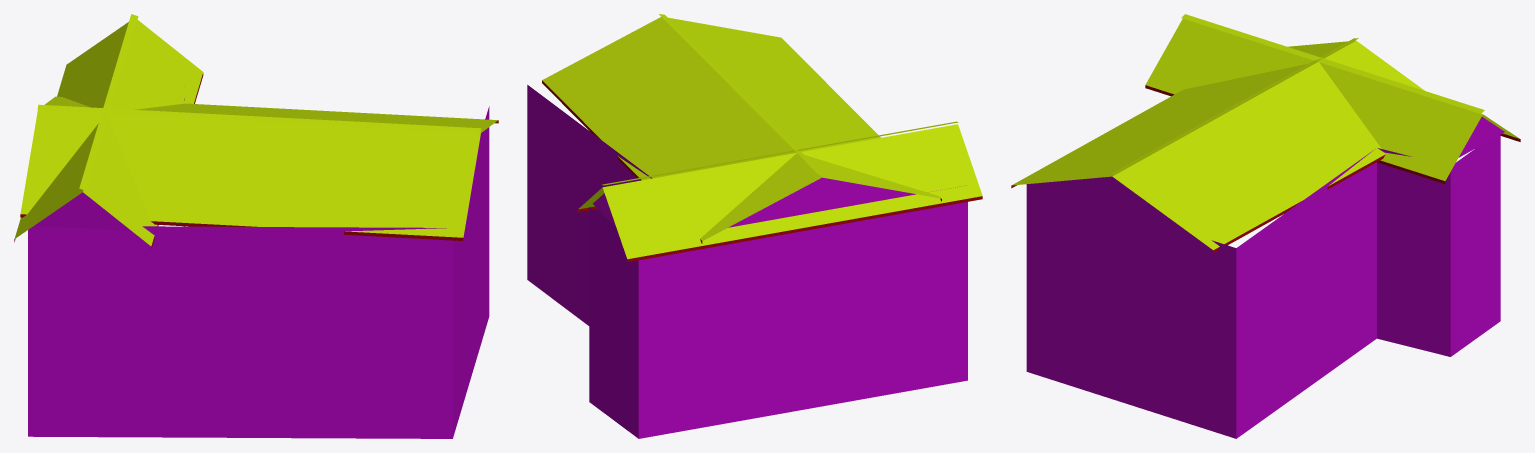
Rendered from rmc_139.glb.
3 renders of one model, left to right at view 1: azimuth 30°, elevation 25°; view 2: azimuth 150°, elevation 25°; view 3: azimuth 270°, elevation 25°, orthographic. The views are drawn at different scales.
Visible parts, largest first — view 1: rmc_139; view 2: rmc_139; view 3: rmc_139.
Part boxes in pixels (x1=…): rmc_139: x1=14, y1=14, x2=498, y2=438; rmc_139: x1=527, y1=14, x2=982, y2=438; rmc_139: x1=1011, y1=14, x2=1520, y2=438.
Size of the model in its own units: 18.16 by 9.2 by 18.34.
